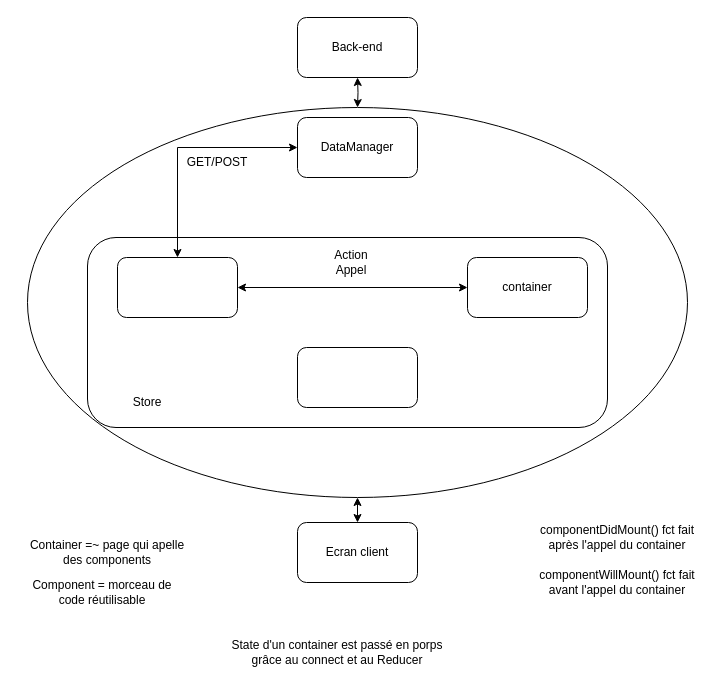
Some shapes in this 714 by 685 pixel diagram are drawn without their labels. The centre of each missing label's shape, as x and y in pixels:
"Action" belongs at (x=177, y=287).
"Reducer" belongs at (x=357, y=377).
